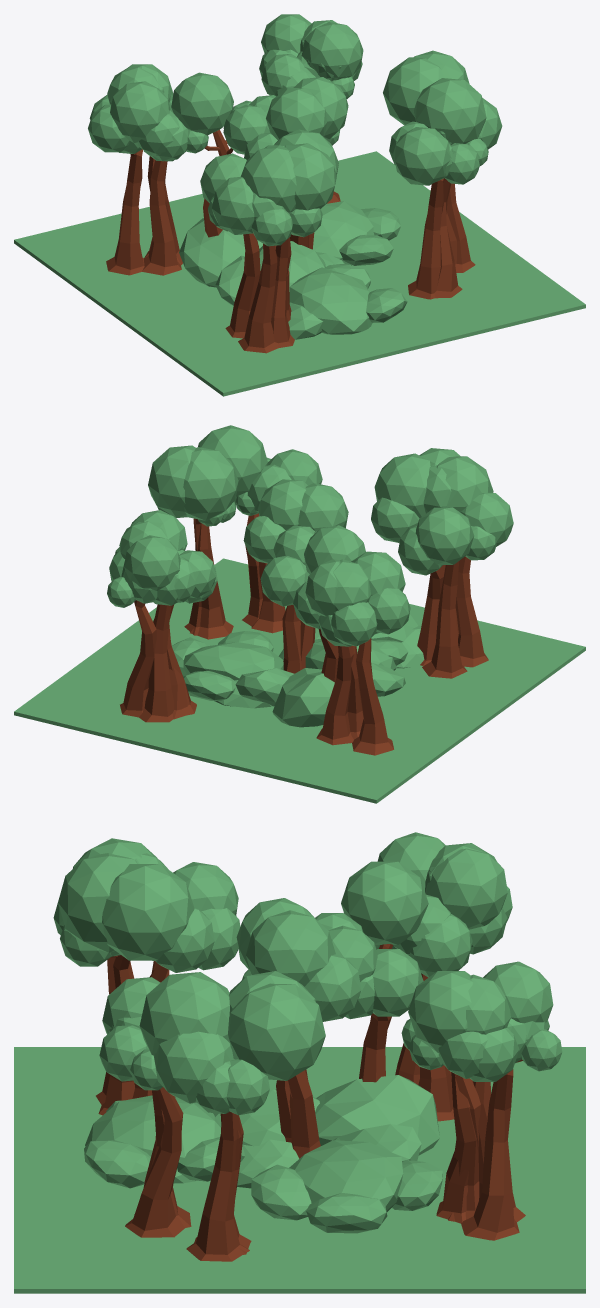
Rendered from zold.fbx.
The picture shows the model from 3 angles, top to bottom: view 1: azimuth 30°, elevation 25°; view 2: azimuth 150°, elevation 25°; view 3: azimuth 270°, elevation 25°; orthographic projection. The views are drawn at different scales.
Parts seen in each view (by area): view 1: Zold05, Zold06, Zold02, Zold01, Zold04, Zold03; view 2: Zold01, Zold06, Zold05, Zold02, Zold04, Zold03; view 3: Zold06, Zold01, Zold05, Zold02, Zold04, Zold03.
Boxes of the visible parts, x1=… form: Zold05: x1=36, y1=49, x2=585, y2=396; Zold06: x1=14, y1=20, x2=483, y2=389; Zold02: x1=14, y1=22, x2=488, y2=394; Zold01: x1=14, y1=14, x2=502, y2=396; Zold04: x1=113, y1=61, x2=486, y2=339; Zold03: x1=107, y1=20, x2=446, y2=282; Zold01: x1=57, y1=447, x2=585, y2=803; Zold06: x1=27, y1=445, x2=585, y2=803; Zold05: x1=14, y1=425, x2=496, y2=802; Zold02: x1=14, y1=453, x2=575, y2=802; Zold04: x1=14, y1=425, x2=546, y2=801; Zold03: x1=134, y1=521, x2=396, y2=670; Zold06: x1=14, y1=844, x2=585, y2=1293; Zold01: x1=14, y1=848, x2=585, y2=1293; Zold05: x1=14, y1=832, x2=526, y2=1278; Zold02: x1=60, y1=861, x2=549, y2=1237; Zold04: x1=14, y1=838, x2=567, y2=1288; Zold03: x1=108, y1=843, x2=510, y2=1223.
Size of the model in its own units: 200 by 112 by 200.
